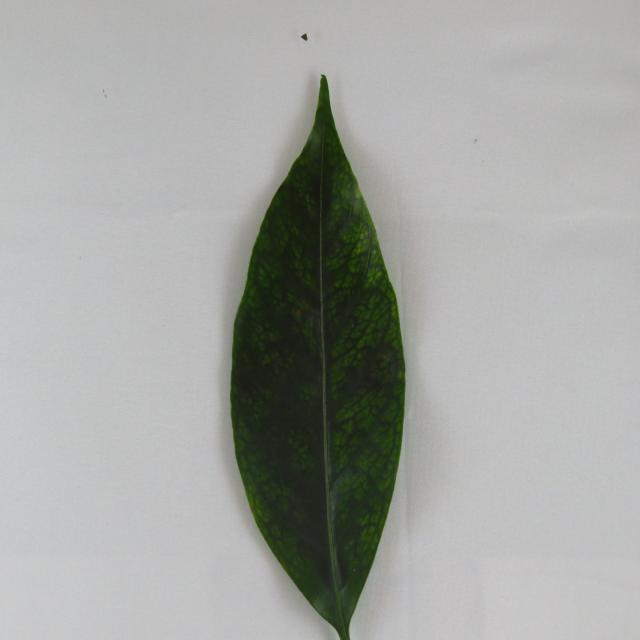DeficienciaNutricional-Fosforo: (231, 77, 405, 638)
